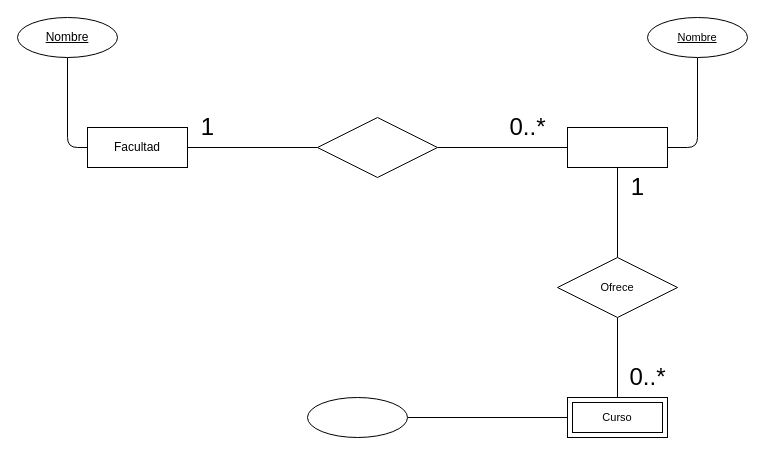
The diagram is 765 pixels wide and 455 high, and some of its shapes have lost their labels. Each missing label, with the centre of its shape:
Departamentos: (617,147)
Número: (357,417)
Tiene: (377,147)
